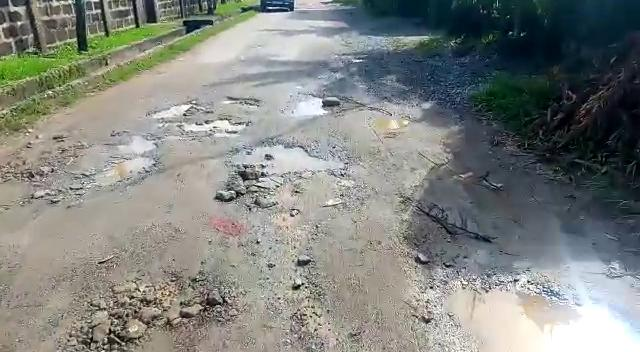pothole: (432, 273, 640, 352), (231, 142, 349, 174), (91, 157, 158, 187), (74, 132, 161, 155), (174, 117, 247, 135), (283, 94, 337, 118), (147, 100, 197, 121), (222, 94, 263, 107)
